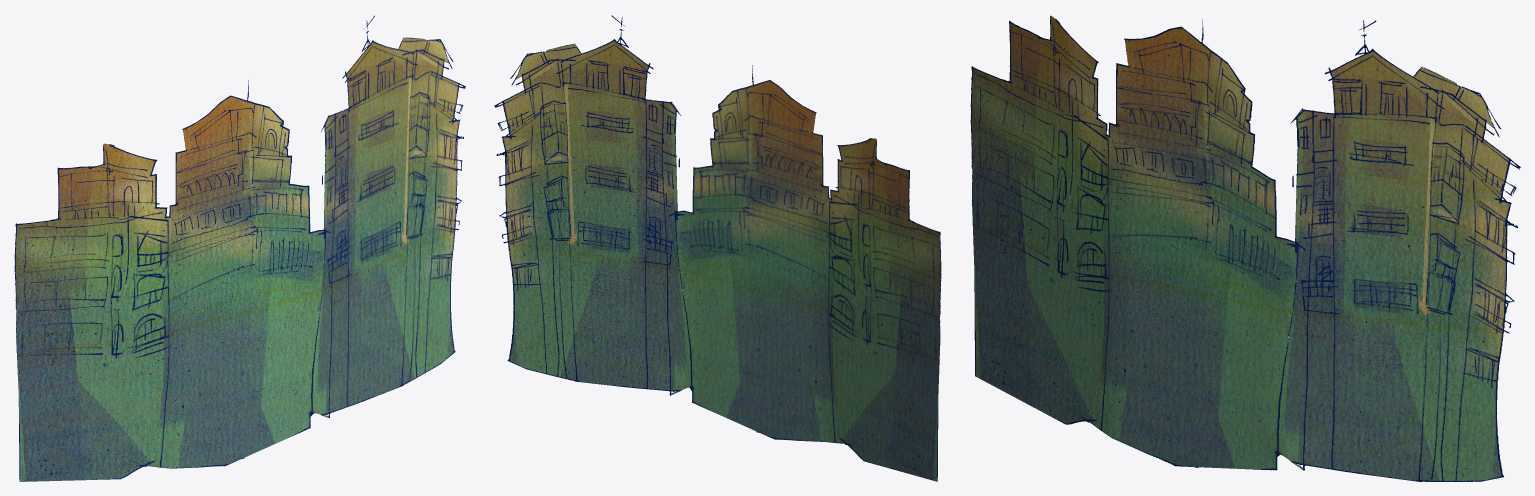
The model's file is 01_mid_bld_01.fbx.
3 views of the same model, side by side, from view 1: azimuth 30°, elevation 25°; view 2: azimuth 150°, elevation 25°; view 3: azimuth 330°, elevation 25° (orthographic). The views are drawn at different scales.
Parts seen in each view (by area): view 1: 房子_中景_01; view 2: 房子_中景_01; view 3: 房子_中景_01.
Boxes of the visible parts, x1,y1,x2,y2 form: 房子_中景_01: [14, 15, 465, 481]; 房子_中景_01: [494, 15, 941, 481]; 房子_中景_01: [970, 15, 1520, 481].
Size of the model in its own units: 90.15 by 76.77 by 8.52.
1 material, 1 textured.
